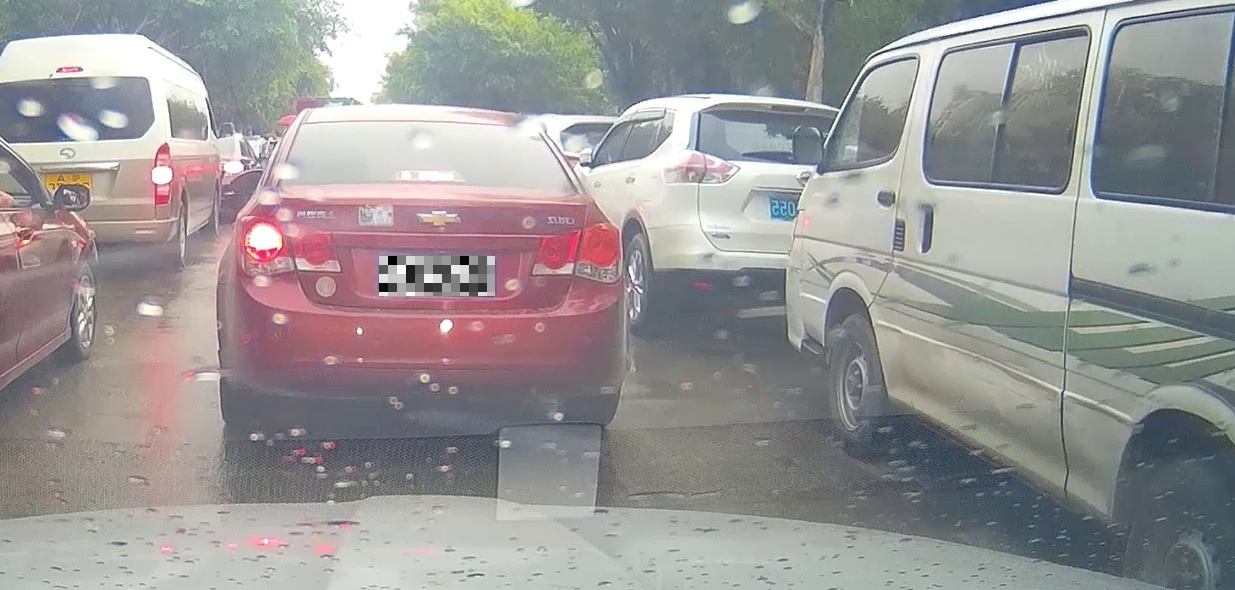L_light: (235, 216, 343, 279)
R_light: (530, 222, 625, 285)
T_light: (397, 170, 458, 183)
day-left: (215, 103, 628, 428)
plate_1: (379, 256, 495, 296)
